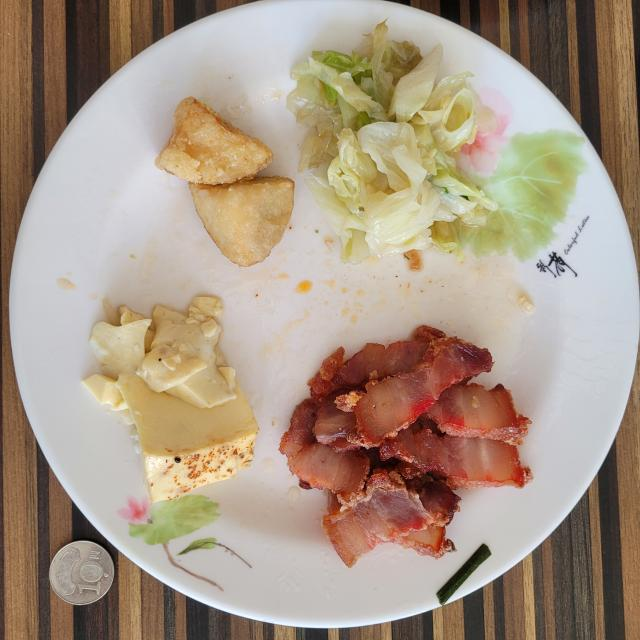cabbage: (289, 24, 498, 262)
coin: (50, 541, 114, 605)
fried potato: (155, 96, 294, 266)
red grilled pork: (280, 326, 531, 566)
